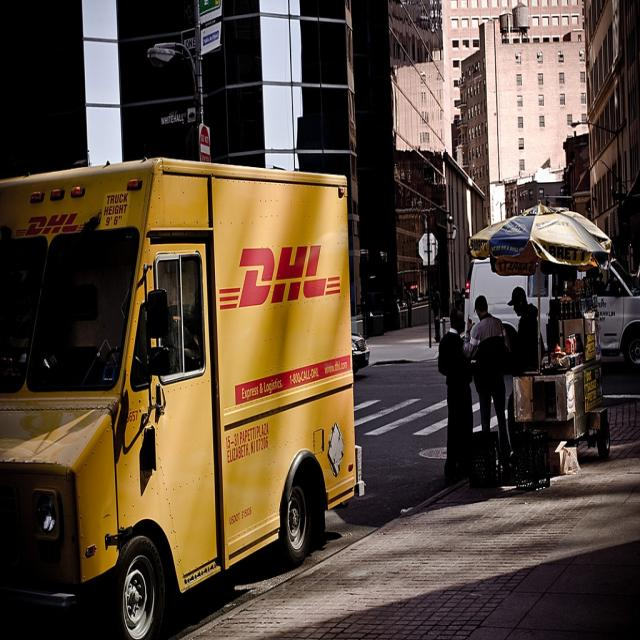dhl: (217, 241, 347, 316), (15, 212, 88, 239)
